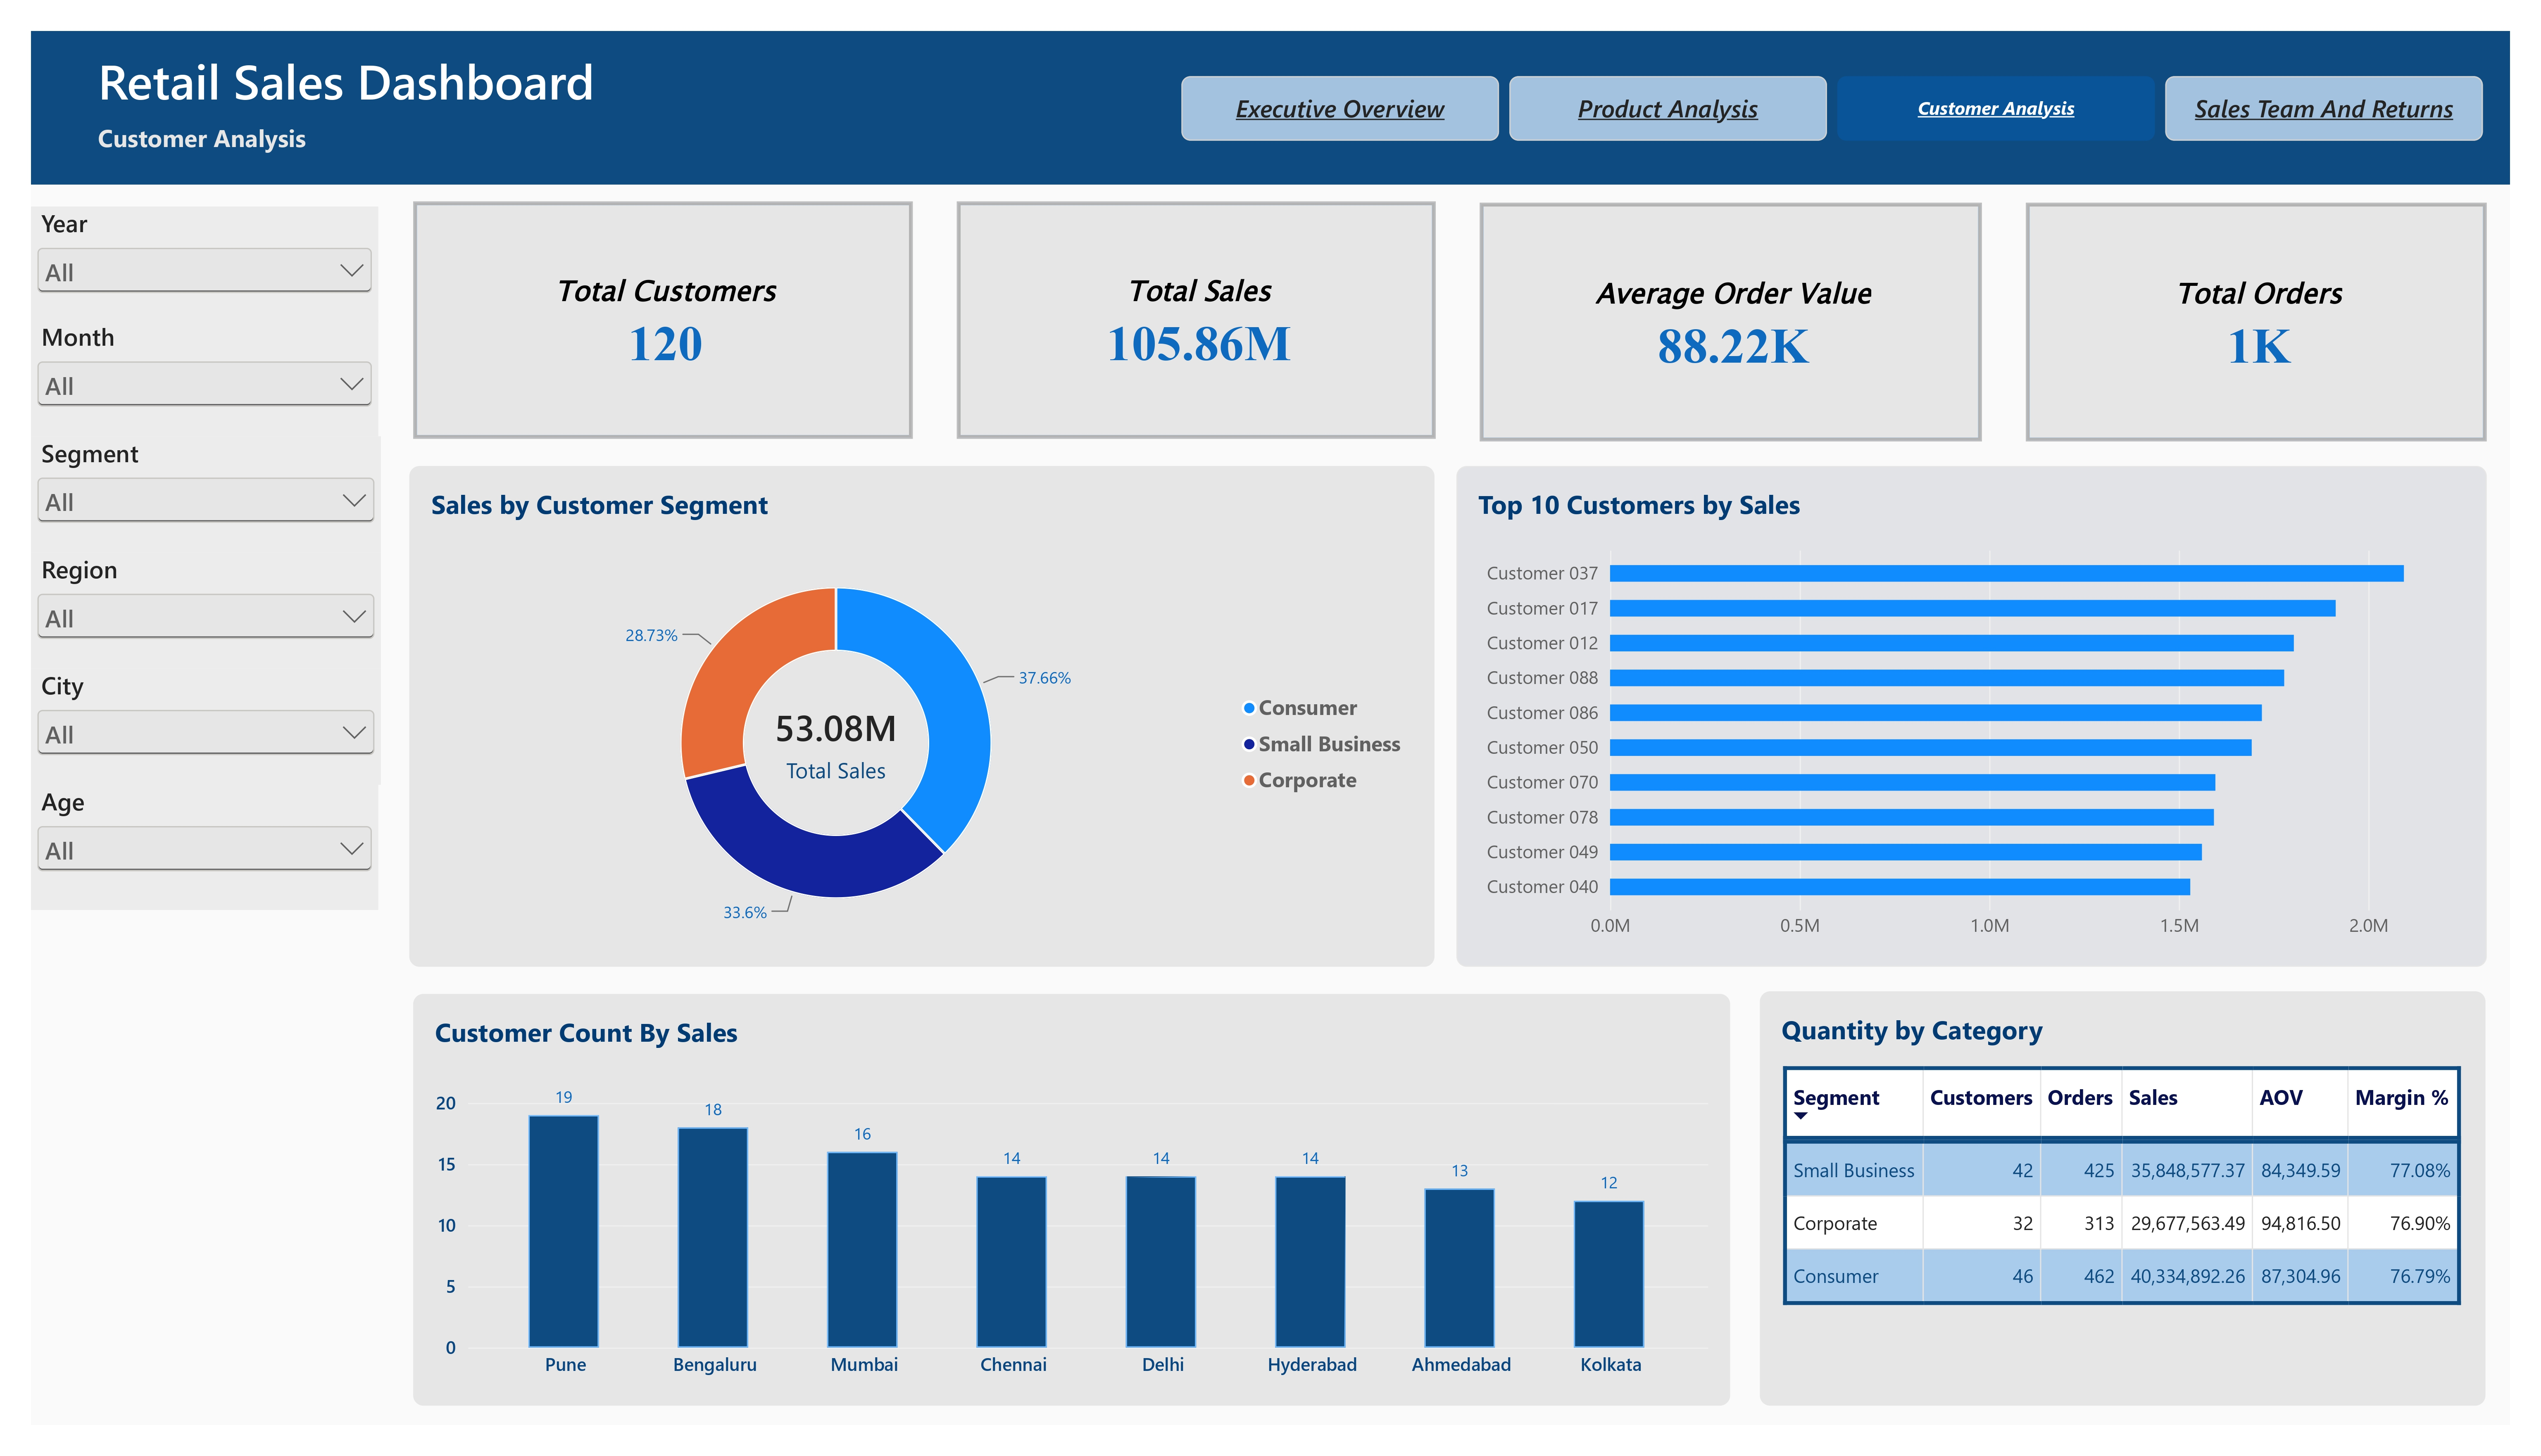

This screenshot's page, from the dashboard's own definition file:
{"tool":"powerbi","page":{"name":"Customer Analysis","canvas":[1920,1080],"ordinal":2},"visuals":[{"type":"shape","box":[0,0,1919.9,119.4],"z":0},{"type":"textbox","box":[10.2,13.1,439.1,56.9],"z":1000},{"type":"textbox","box":[10.2,70,439.1,32.1],"z":2000},{"type":"slicer","fields":{"Values":["Calendar.Year"]},"box":[0,136,269.4,90.2],"z":3000},{"type":"slicer","fields":{"Values":["Calendar.MonthName"]},"box":[0,223.6,269.4,90.2],"z":4000},{"type":"slicer","fields":{"Values":["Employees.Region"]},"box":[0,404,270.6,90.2],"z":5000},{"type":"slicer","fields":{"Values":["Customers.Segment"]},"box":[0,313.8,270.6,90.2],"z":6000},{"type":"slicer","fields":{"Values":["Customers.City"]},"box":[0,494.3,270.6,90.2],"z":7000},{"type":"slicer","fields":{"Values":["Customers.AgeGroup"]},"box":[0,584.5,269.4,96.6],"z":8000},{"type":"cardVisual","fields":{"Data":[" Measures .Total Sales"]},"box":[716.8,132,371,184.2],"z":9000},{"type":"cardVisual","fields":{"Data":[" Measures .Average Order Value"]},"box":[1121.7,133.3,389.4,185],"z":10000},{"type":"cardVisual","fields":{"Data":[" Measures .Total Customers"]},"box":[296.3,132,386.9,184.2],"z":11000},{"type":"cardVisual","fields":{"Data":[" Measures .Total Orders"]},"box":[1544.8,133.3,357.1,185],"z":12000},{"type":"donutChart","title":"Sales by Customer Segment","fields":{"Category":["Customers.Segment"],"Y":[" Measures .Total Sales"]},"box":[293.3,337,793.7,388.1],"z":13000},{"type":"clusteredBarChart","title":"Top 10 Customers by Sales","fields":{"Category":["Customers.CustomerName"],"Y":[" Measures .Total Sales"]},"box":[1104.4,337,798.1,388.1],"z":14000},{"type":"clusteredColumnChart","title":"Customer Count By Sales","fields":{"Category":["Customers.City"],"Y":[" Measures .Customer Count"]},"box":[296.2,745.5,1019.8,319.5],"z":15000},{"type":"tableEx","title":"Quantity by Category","fields":{"Values":["Customers.Segment"," Measures .Total Customers"," Measures .Total Orders"," Measures .Total Sales"," Measures .Average Order Value"," Measures .Profit Margin %"]},"box":[1339.3,744.1,561.7,321],"z":16000},{"type":"pageNavigator","box":[891.4,35,1009.6,49.6],"z":17000}]}

Visuals, with their boxes on the page's 1920x1080 design canvas (x1, y1, x2, y2). These are canvas units, not pixel positions in the 2541x1456 screenshot, which may show the page scaled, cropped or inside an application window:
shape: Rect(0, 0, 1920, 119)
textbox: Rect(10, 13, 449, 70)
textbox: Rect(10, 70, 449, 102)
slicer - Calendar.Year: Rect(0, 136, 269, 226)
slicer - Calendar.MonthName: Rect(0, 224, 269, 314)
slicer - Employees.Region: Rect(0, 404, 271, 494)
slicer - Customers.Segment: Rect(0, 314, 271, 404)
slicer - Customers.City: Rect(0, 494, 271, 584)
slicer - Customers.AgeGroup: Rect(0, 584, 269, 681)
cardVisual -  Measures .Total Sales: Rect(717, 132, 1088, 316)
cardVisual -  Measures .Average Order Value: Rect(1122, 133, 1511, 318)
cardVisual -  Measures .Total Customers: Rect(296, 132, 683, 316)
cardVisual -  Measures .Total Orders: Rect(1545, 133, 1902, 318)
"Sales by Customer Segment" donutChart: Rect(293, 337, 1087, 725)
"Top 10 Customers by Sales" clusteredBarChart: Rect(1104, 337, 1902, 725)
"Customer Count By Sales" clusteredColumnChart: Rect(296, 746, 1316, 1065)
"Quantity by Category" tableEx: Rect(1339, 744, 1901, 1065)
pageNavigator: Rect(891, 35, 1901, 85)
